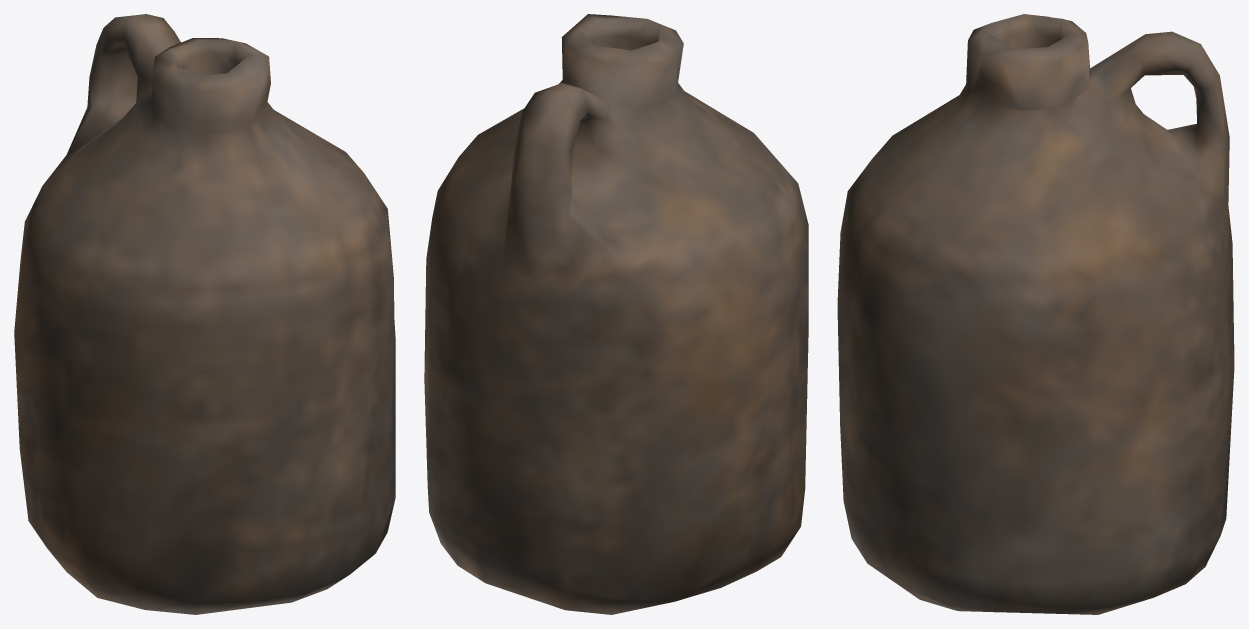
The model's file is SM_Pot_05.gltf.
3 views of the same model, side by side, from view 1: azimuth 30°, elevation 25°; view 2: azimuth 150°, elevation 25°; view 3: azimuth 270°, elevation 25° (orthographic). The views are drawn at different scales.
Visible parts, largest first — view 1: SM_Pot_05_LOD0; view 2: SM_Pot_05_LOD0; view 3: SM_Pot_05_LOD0.
Boxes of the visible parts, x1=… form: SM_Pot_05_LOD0: x1=14, y1=14, x2=395, y2=614; SM_Pot_05_LOD0: x1=424, y1=14, x2=808, y2=614; SM_Pot_05_LOD0: x1=837, y1=14, x2=1234, y2=614.
Size of what is drawn, in the model's own units: 0.321 by 0.4653 by 0.3191.
Materials: 1 (1 with a texture image).
